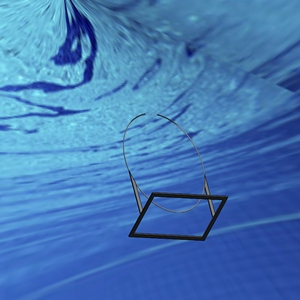circle: (121, 111, 228, 242)
